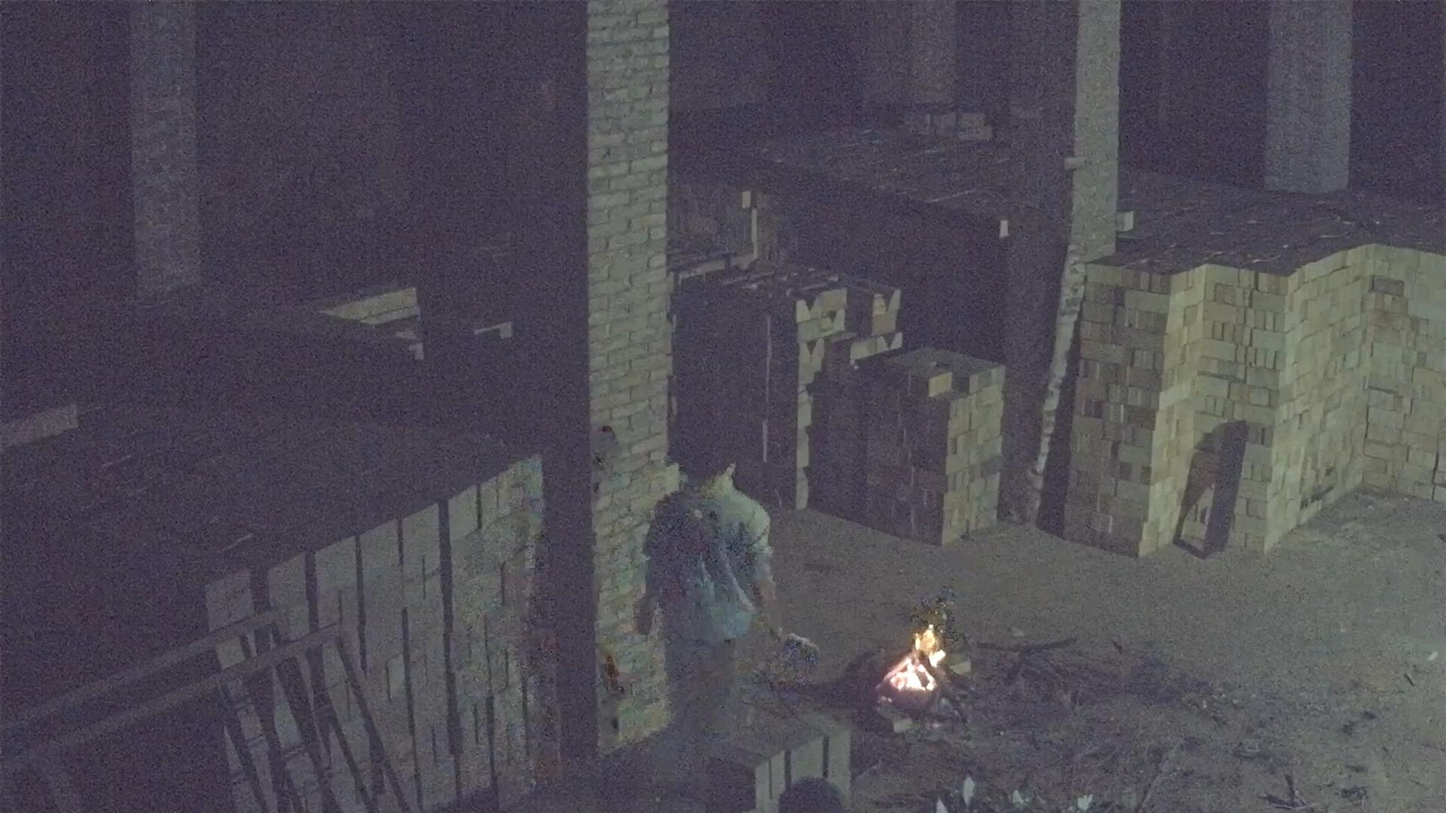fire: (876, 623, 946, 714)
